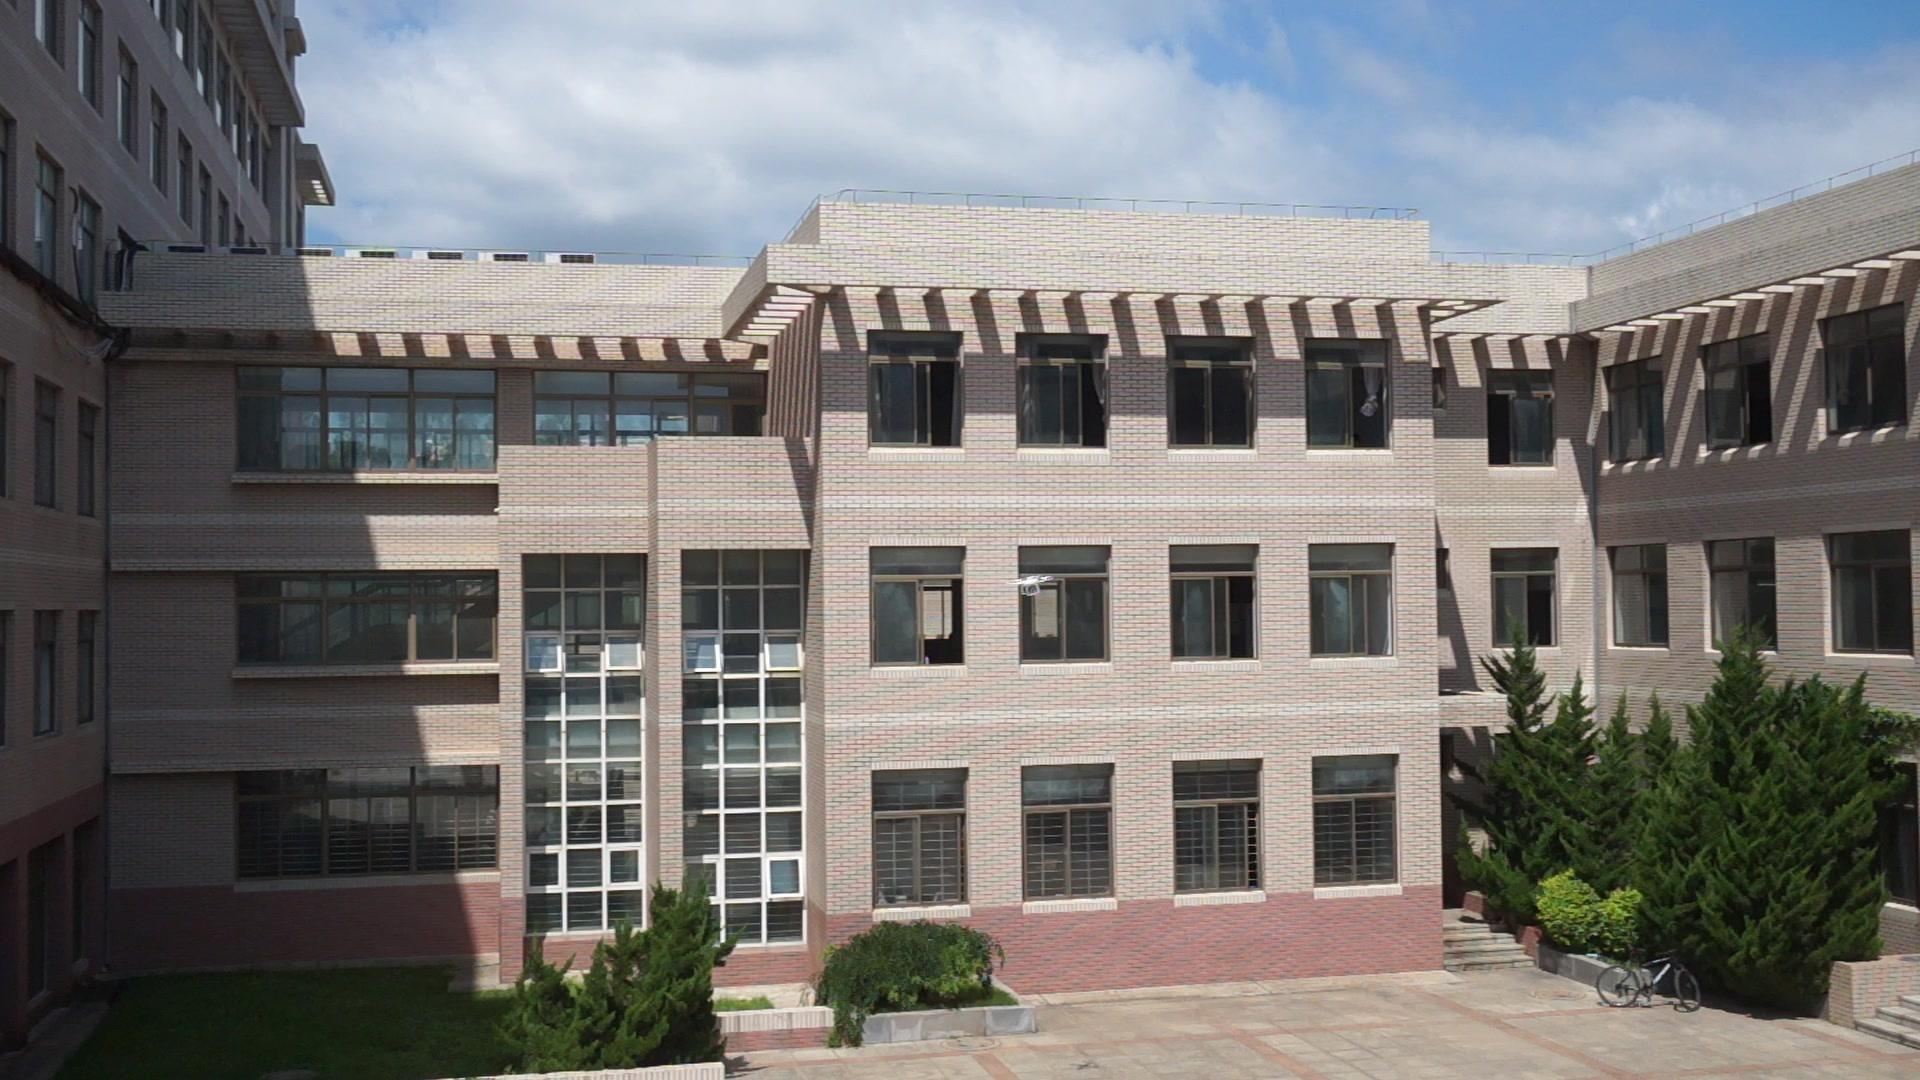UAV: (1007, 578, 1055, 597)
